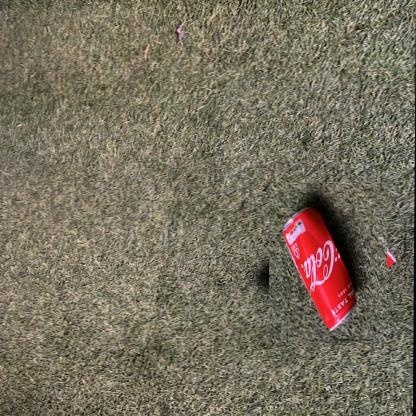trash: (282, 208, 354, 329)
